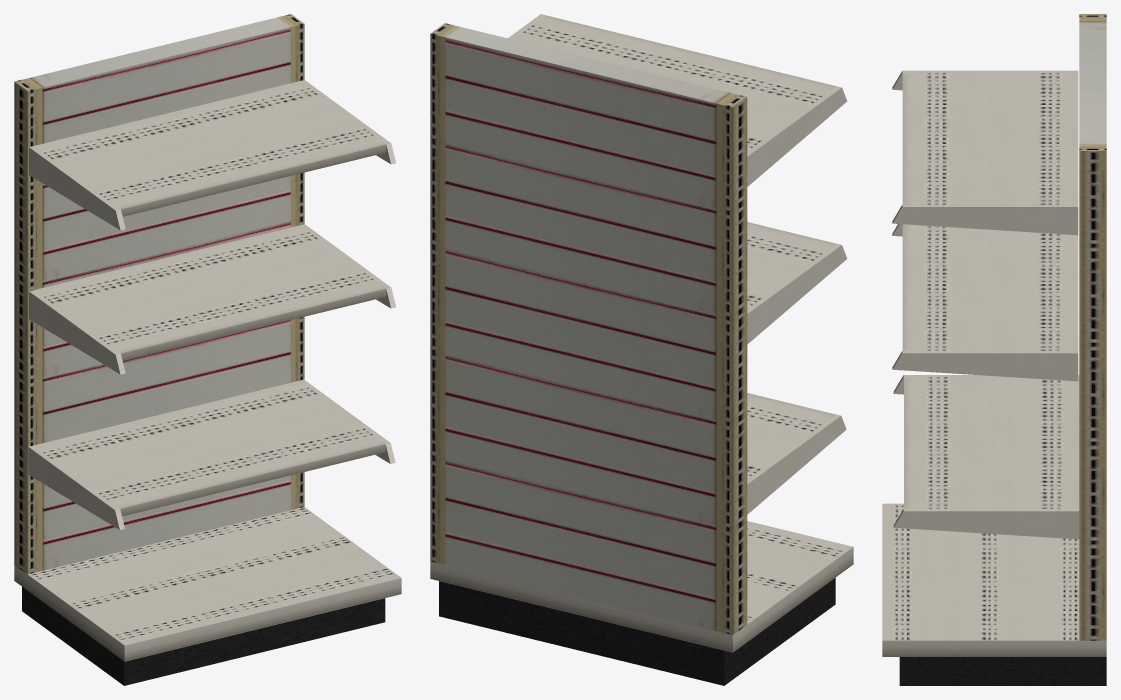
Rendered from Classic64_CommericalShelfEnd_Model.fbx.
3 renders of one model, left to right at view 1: azimuth 30°, elevation 25°; view 2: azimuth 150°, elevation 25°; view 3: azimuth 270°, elevation 25°, orthographic. The views are drawn at different scales.
Parts seen in each view (by area): view 1: Classic64_CommericalShelfEnd_Part000, Classic64_CommericalShelfEnd_Part001, Classic64_CommericalShelfEnd_Part010, Classic64_CommericalShelfEnd_Part009, Classic64_CommericalShelfEnd_Part011, Classic64_CommericalShelfEnd_Part002, Classic64_CommericalShelfEnd_Part008, Classic64_CommericalShelfEnd_Part004, Classic64_CommericalShelfEnd_Part005, Classic64_CommericalShelfEnd_Part007, Classic64_CommericalShelfEnd_Part003, Classic64_CommericalShelfEnd_Part006; view 2: Classic64_CommericalShelfEnd_Part000, Classic64_CommericalShelfEnd_Part002, Classic64_CommericalShelfEnd_Part001, Classic64_CommericalShelfEnd_Part009, Classic64_CommericalShelfEnd_Part010, Classic64_CommericalShelfEnd_Part011, Classic64_CommericalShelfEnd_Part005, Classic64_CommericalShelfEnd_Part004, Classic64_CommericalShelfEnd_Part008; view 3: Classic64_CommericalShelfEnd_Part001, Classic64_CommericalShelfEnd_Part009, Classic64_CommericalShelfEnd_Part011, Classic64_CommericalShelfEnd_Part010, Classic64_CommericalShelfEnd_Part000, Classic64_CommericalShelfEnd_Part002, Classic64_CommericalShelfEnd_Part006, Classic64_CommericalShelfEnd_Part007, Classic64_CommericalShelfEnd_Part003, Classic64_CommericalShelfEnd_Part004, Classic64_CommericalShelfEnd_Part008.
Boxes of the visible parts, x1,y1,x2,y2 form: Classic64_CommericalShelfEnd_Part000: (14,14,304,574); Classic64_CommericalShelfEnd_Part001: (14,507,401,661); Classic64_CommericalShelfEnd_Part010: (34,225,386,360); Classic64_CommericalShelfEnd_Part009: (34,81,386,216); Classic64_CommericalShelfEnd_Part011: (34,381,385,516); Classic64_CommericalShelfEnd_Part002: (22,587,385,685); Classic64_CommericalShelfEnd_Part008: (28,445,124,529); Classic64_CommericalShelfEnd_Part004: (29,146,125,230); Classic64_CommericalShelfEnd_Part005: (29,290,125,374); Classic64_CommericalShelfEnd_Part007: (299,379,395,463); Classic64_CommericalShelfEnd_Part003: (300,80,395,164); Classic64_CommericalShelfEnd_Part006: (300,224,395,308); Classic64_CommericalShelfEnd_Part000: (430,23,747,634); Classic64_CommericalShelfEnd_Part002: (439,578,835,685); Classic64_CommericalShelfEnd_Part001: (430,521,853,652); Classic64_CommericalShelfEnd_Part009: (513,15,835,150); Classic64_CommericalShelfEnd_Part010: (747,222,835,308); Classic64_CommericalShelfEnd_Part011: (747,393,835,478); Classic64_CommericalShelfEnd_Part005: (747,243,847,344); Classic64_CommericalShelfEnd_Part004: (747,86,847,186); Classic64_CommericalShelfEnd_Part008: (747,414,846,514); Classic64_CommericalShelfEnd_Part001: (882,503,1106,656); Classic64_CommericalShelfEnd_Part009: (902,73,1078,204); Classic64_CommericalShelfEnd_Part011: (904,377,1079,508); Classic64_CommericalShelfEnd_Part010: (902,224,1078,350); Classic64_CommericalShelfEnd_Part000: (1079,14,1106,640); Classic64_CommericalShelfEnd_Part002: (899,657,1106,685); Classic64_CommericalShelfEnd_Part006: (892,350,1078,381); Classic64_CommericalShelfEnd_Part007: (893,508,1079,539); Classic64_CommericalShelfEnd_Part003: (892,204,1078,235); Classic64_CommericalShelfEnd_Part004: (892,70,1078,90); Classic64_CommericalShelfEnd_Part008: (893,375,1079,394).
Bounding box in the file's own units: 0.9144 × 1.68 × 0.6318.
Materials: 4 (4 with a texture image).
